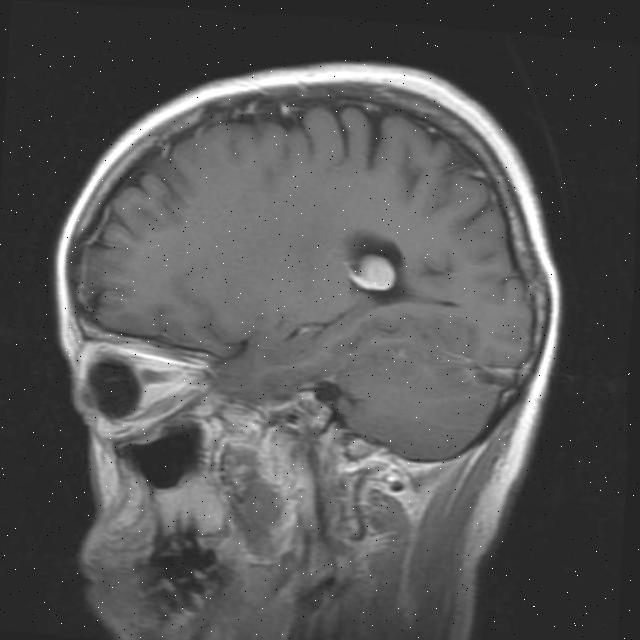Meningioma: (341, 248, 397, 293)
